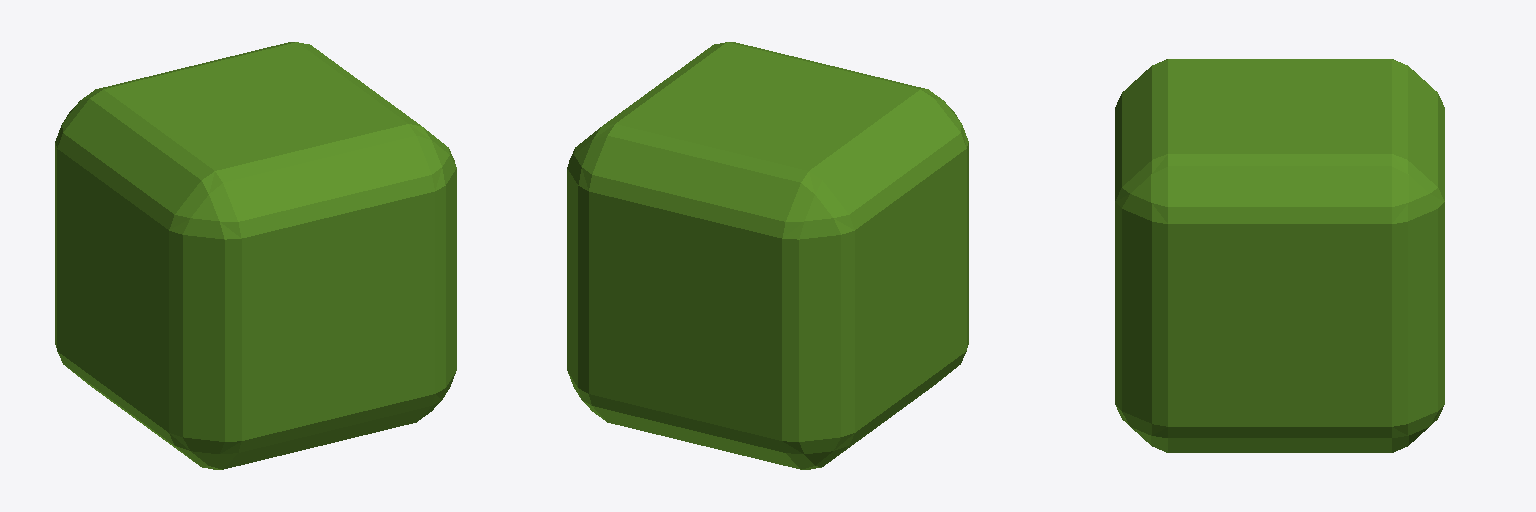
The model's file is generic.obj.
3 renders of one model, left to right at view 1: azimuth 30°, elevation 25°; view 2: azimuth 150°, elevation 25°; view 3: azimuth 270°, elevation 25°, orthographic.
Visible parts, largest first — view 1: Cube.001; view 2: Cube.001; view 3: Cube.001.
Part boxes in pixels (bbox=[...]): Cube.001: bbox=[55, 42, 456, 469]; Cube.001: bbox=[567, 42, 968, 469]; Cube.001: bbox=[1115, 59, 1444, 452].
Bounding box in the file's own units: 2 × 2 × 2.